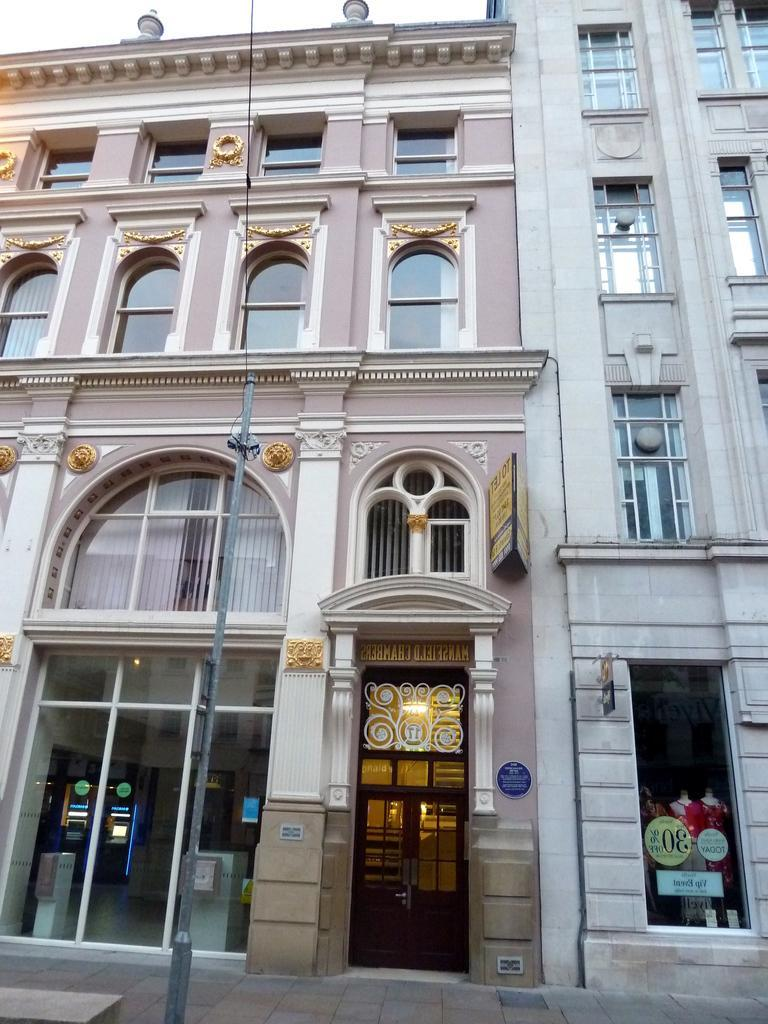door: (410, 798, 465, 956), (358, 806, 406, 958)
